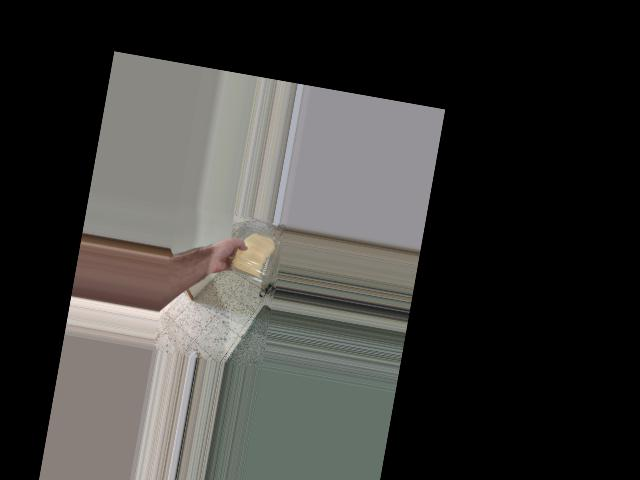cheese: (227, 227, 280, 283)
